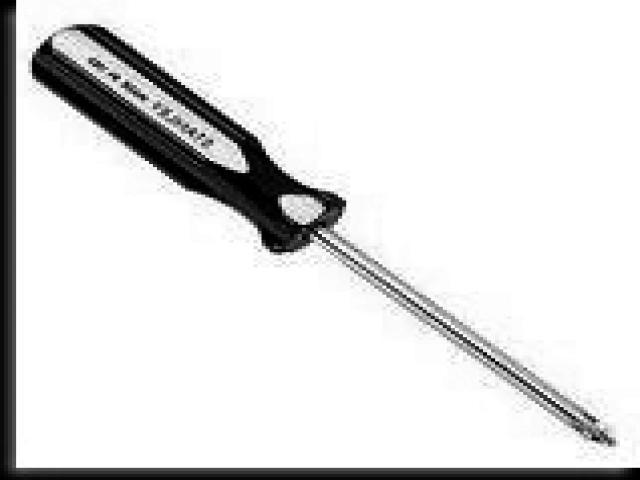Screwdriver: (38, 25, 608, 444)
